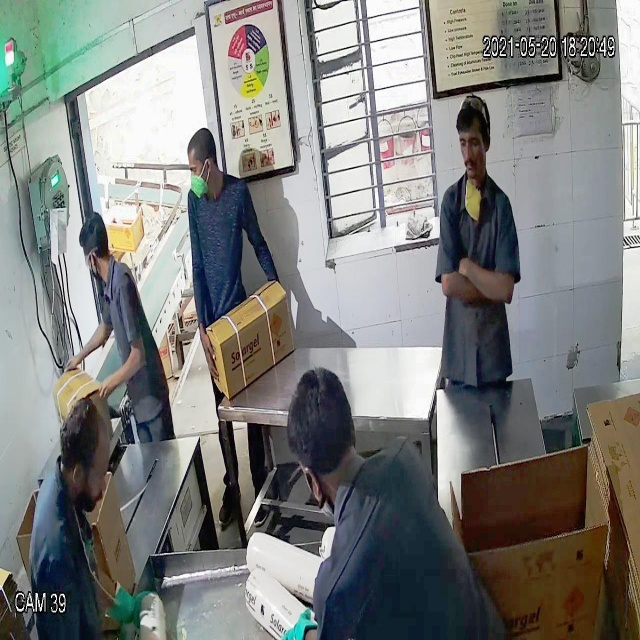Sin_gafas: (451, 129, 486, 159)
